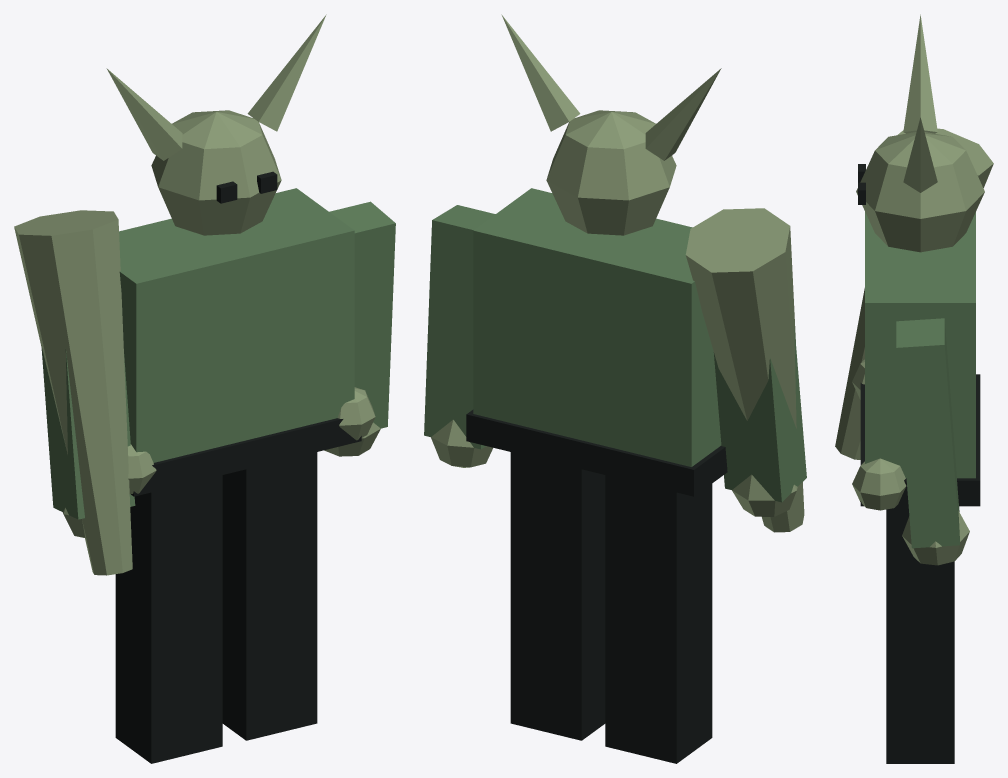
File: SM_Champion_9017_Bone.glb
3 views of the same model, side by side, from view 1: azimuth 30°, elevation 25°; view 2: azimuth 150°, elevation 25°; view 3: azimuth 270°, elevation 25° (orthographic). The views are drawn at different scales.
Parts seen in each view (by area): view 1: SM_Champion_9017_Bone; view 2: SM_Champion_9017_Bone; view 3: SM_Champion_9017_Bone.
Part boxes in pixels (<box>): SM_Champion_9017_Bone: <box>14,14,395,763</box>; SM_Champion_9017_Bone: <box>424,14,806,763</box>; SM_Champion_9017_Bone: <box>835,14,993,763</box>.
Bounding box in the file's own units: 0.9433 × 1.75 × 0.382.
